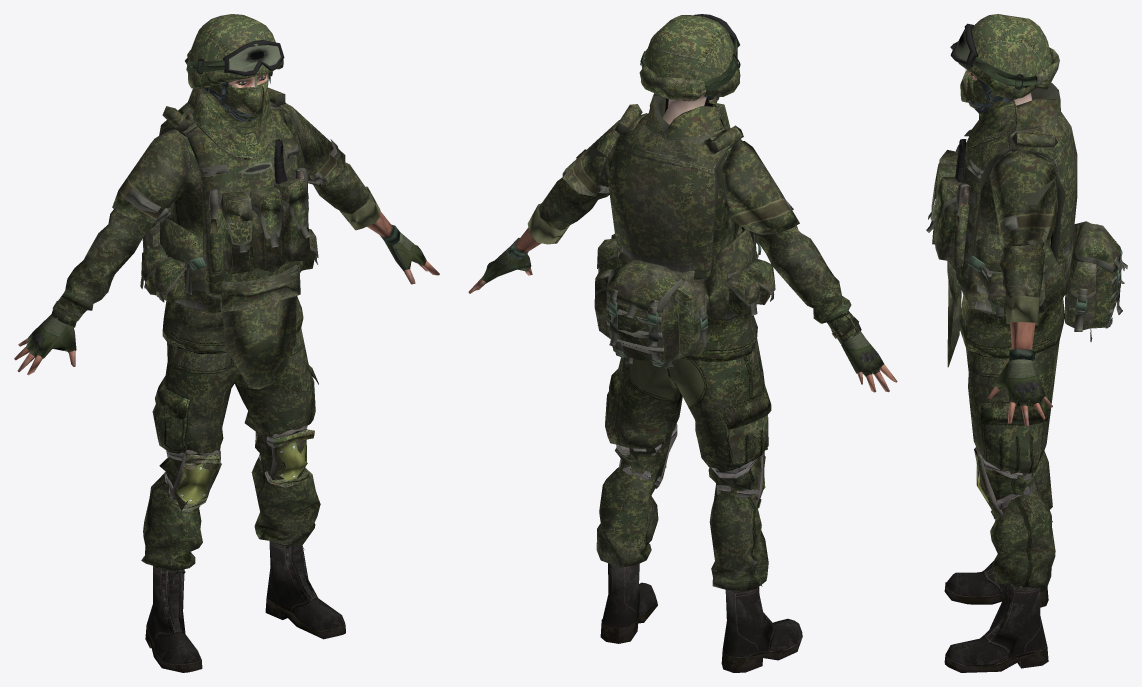
Rendered from soldier (1).glb.
3 renders of one model, left to right at view 1: azimuth 30°, elevation 25°; view 2: azimuth 150°, elevation 25°; view 3: azimuth 270°, elevation 25°, orthographic.
Visible parts, largest first — view 1: Object_2, Object_6, Object_5, Object_4; view 2: Object_2, Object_6, Object_5, Object_4; view 3: Object_2, Object_6, Object_5, Object_4.
Part boxes in pixels (x1,y1,x2,y2): Object_2: (14, 106, 439, 672); Object_6: (112, 87, 345, 512); Object_5: (140, 139, 318, 302); Object_4: (185, 14, 284, 159); Object_2: (468, 124, 897, 672); Object_6: (562, 95, 799, 508); Object_5: (594, 234, 775, 368); Object_4: (639, 14, 740, 130); Object_2: (944, 138, 1064, 672); Object_6: (947, 82, 1077, 519); Object_5: (926, 139, 1127, 341); Object_4: (950, 14, 1059, 147).
Size of the model in its own units: 7.05 by 9.99 by 2.99.
Materials: 5 (5 with a texture image).
